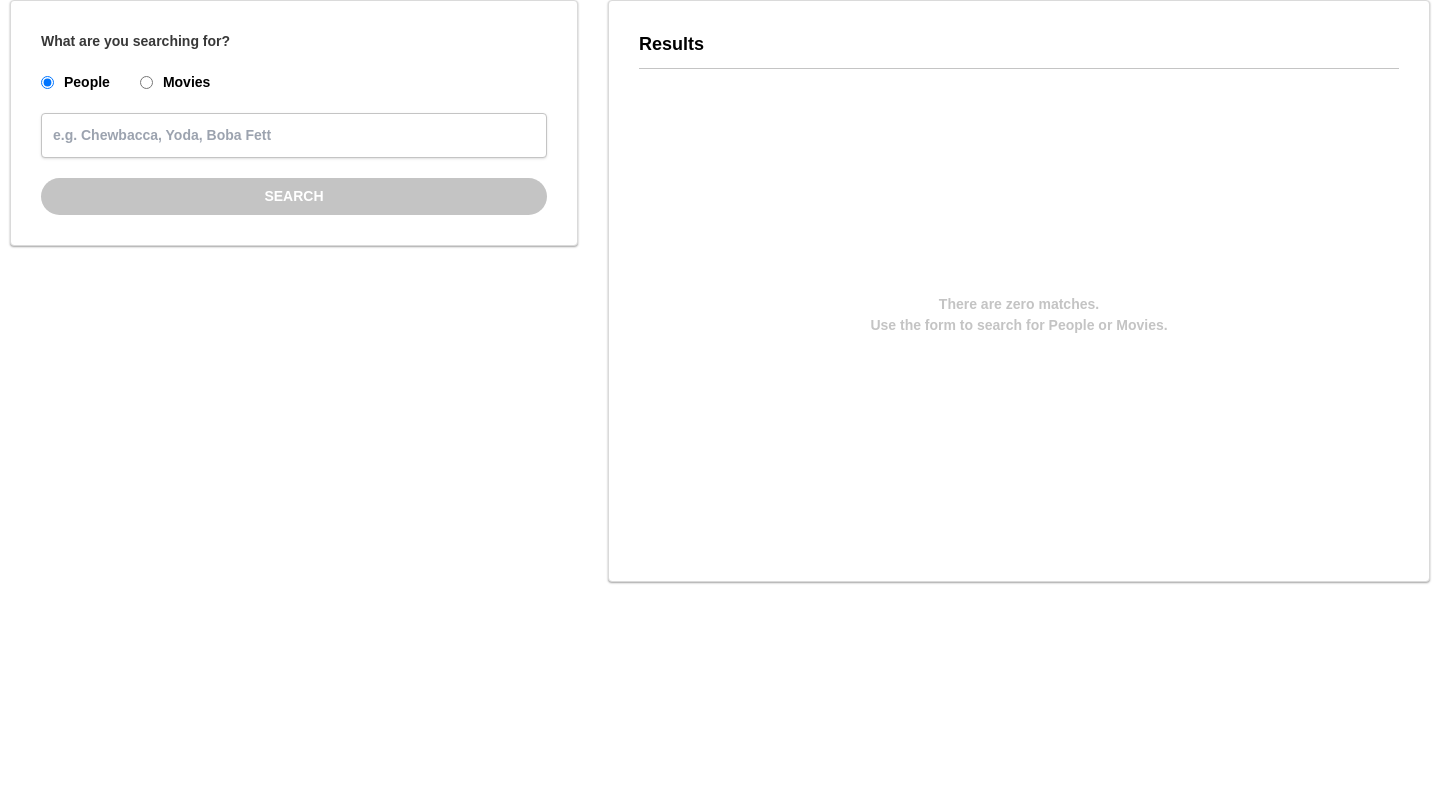
Test: SearchPage › shows an error message when search fails
This screenshot has width=1440, height=810.
Type "Leia" into the field with placeholder "e.g. Chewbacca, Yoda, Boba Fett" at (294, 136), box [41, 113, 547, 158]
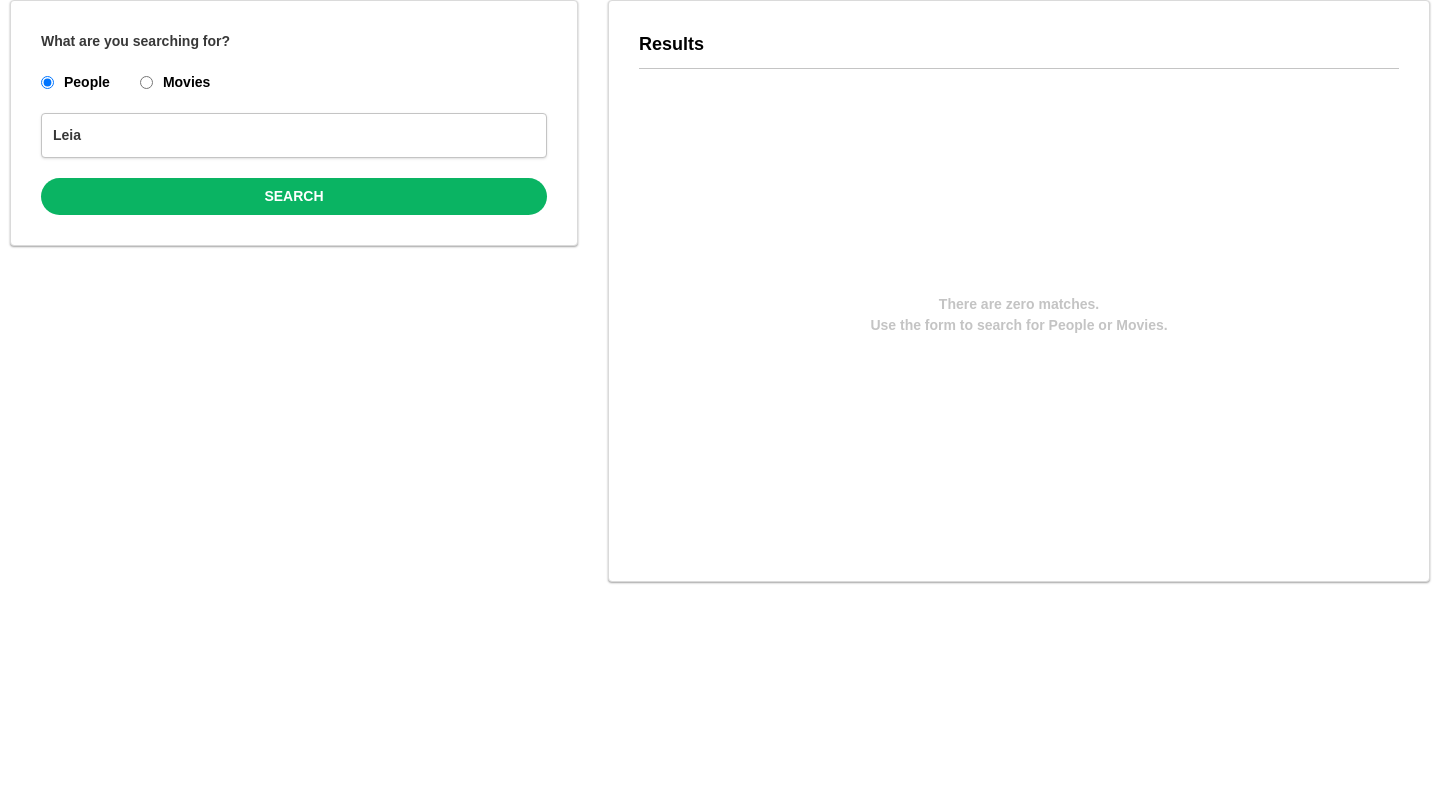
Click the button "SEARCH" at (294, 196), box [41, 178, 547, 215]
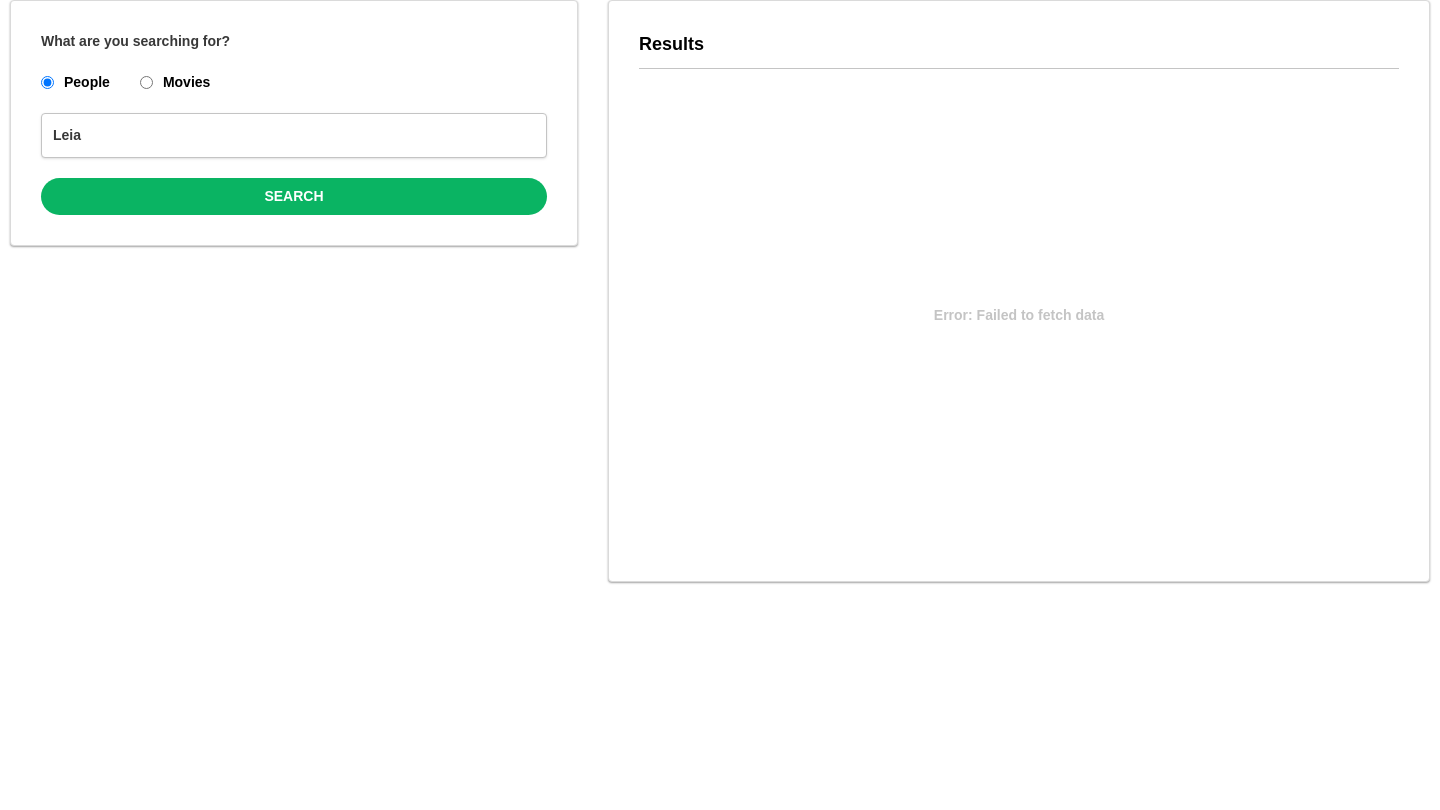
Expected: the text "Error: Failed to fetch data" is shown, [934, 306, 1104, 322]
